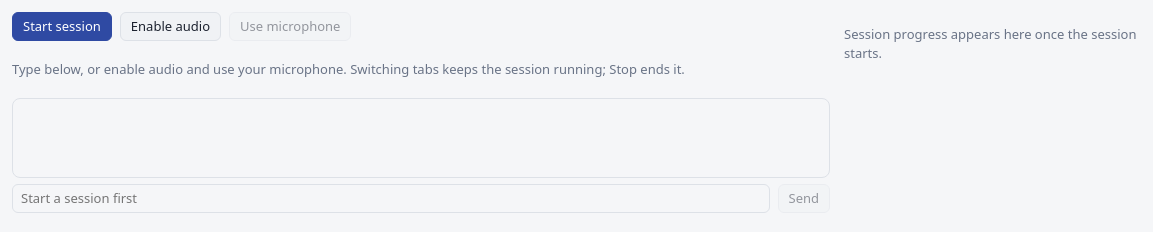
Test case: live task commands › ignores task snapshots from a stopped socket and rejects malformed status
Click the button "Start session". click: (62, 26)
box: [12,12,112,41]
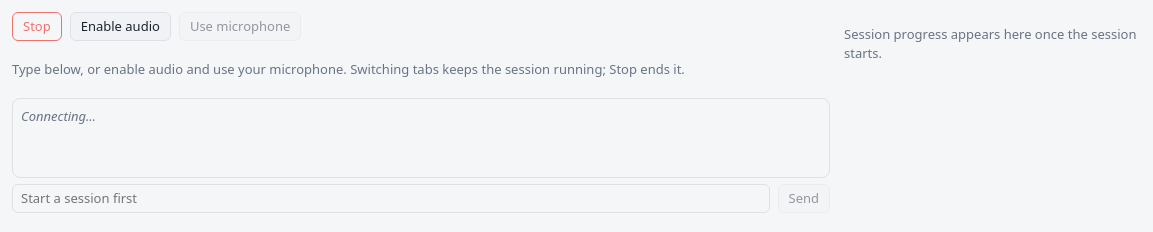
Click the button "Stop". click: (37, 26)
box: [12,12,62,41]
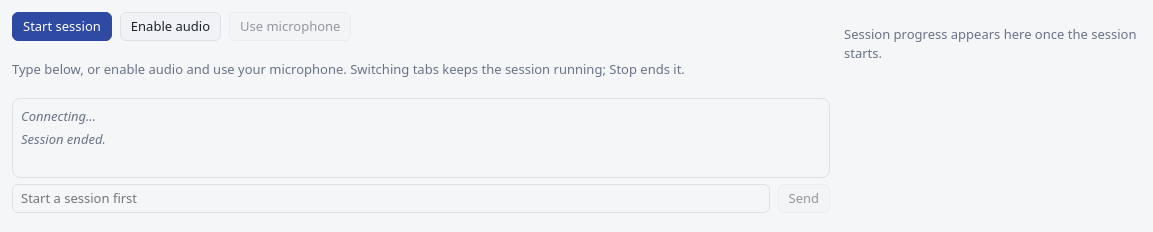
Click the button "Start session". click: (62, 26)
box: [12,12,112,41]
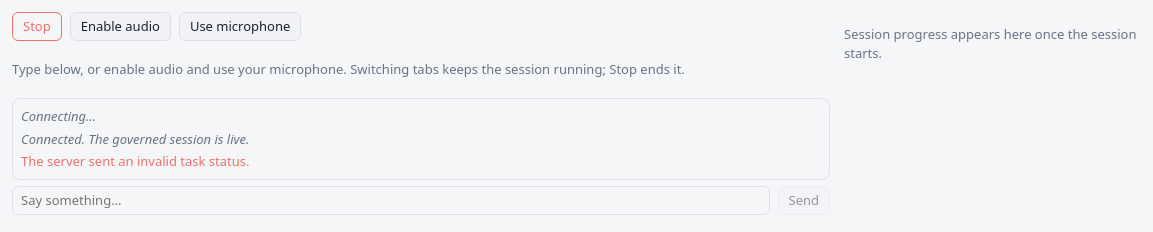
Expected: the text "invalid task status" is shown, [21,152,250,170]
